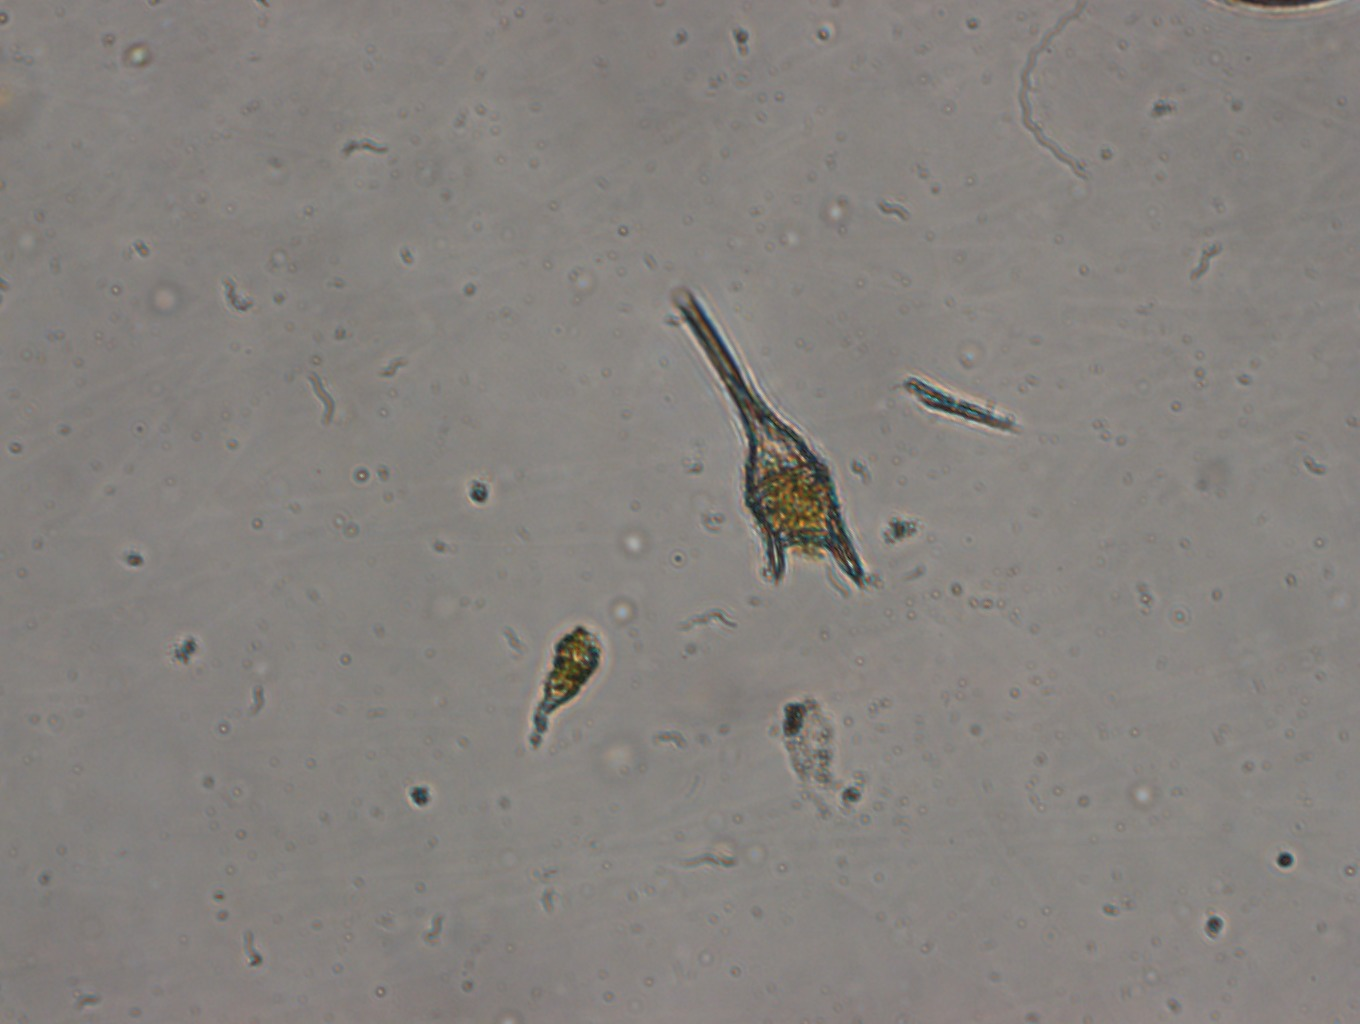ceratium furca: (665, 283, 873, 599)
